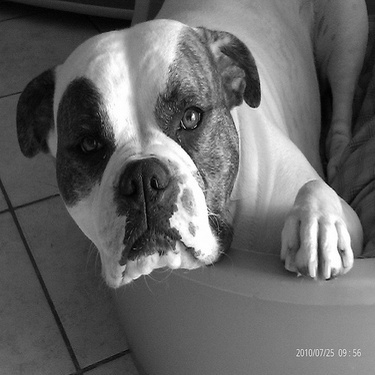dog: (13, 2, 373, 288)
